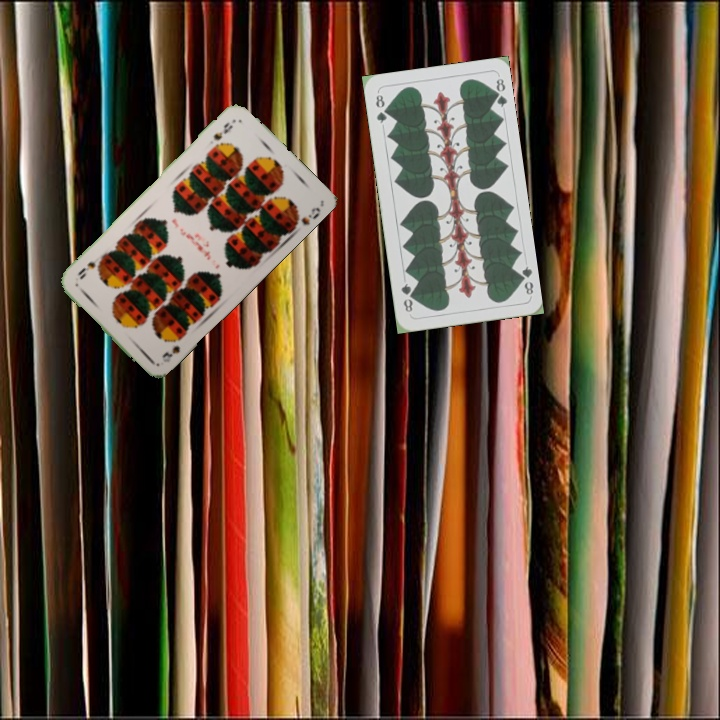G8: (514, 262, 536, 297), (372, 90, 390, 126)
S9: (158, 332, 186, 365), (209, 118, 235, 143)
